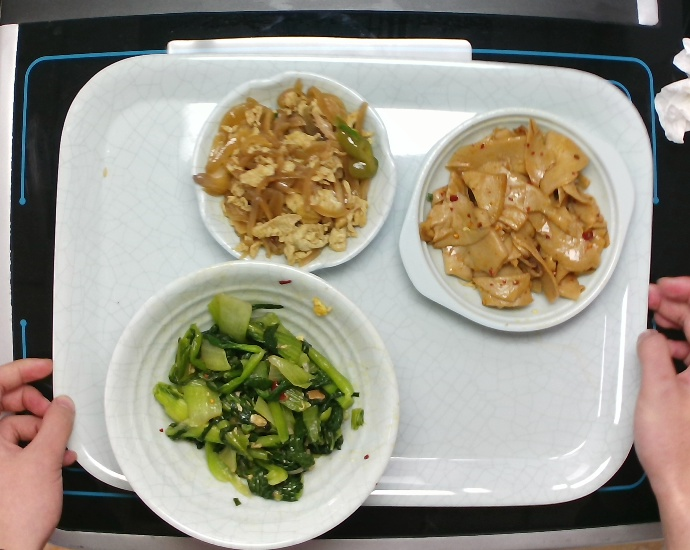JYsf-Ao_Yuan_Wan: (184, 68, 397, 272)
JYsf-Shuang_Er_Pan: (390, 109, 638, 334)
JYsf-Xiao_Tang_Wan: (103, 260, 404, 550)
